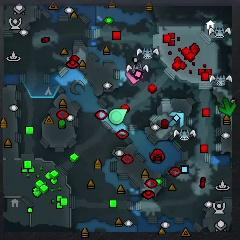p2: (110, 108, 129, 125)
x1: (126, 67, 143, 83)
x3: (168, 111, 184, 127)
x4: (219, 97, 236, 116)
